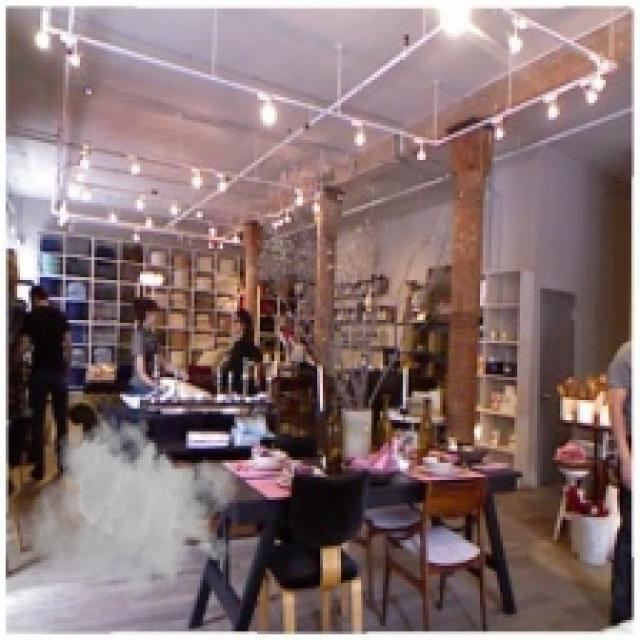Smoke: (28, 411, 240, 620)
